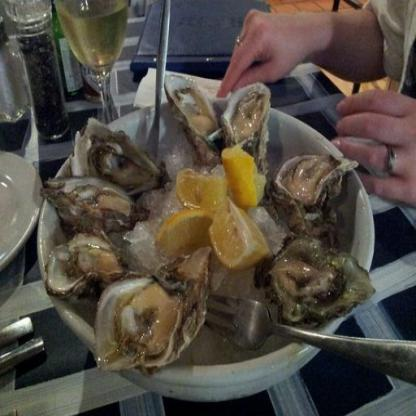oyster: (92, 245, 214, 375), (263, 240, 368, 324), (272, 147, 354, 234), (42, 176, 146, 237), (70, 124, 159, 194), (45, 232, 119, 297), (165, 70, 219, 148), (214, 82, 265, 146)
